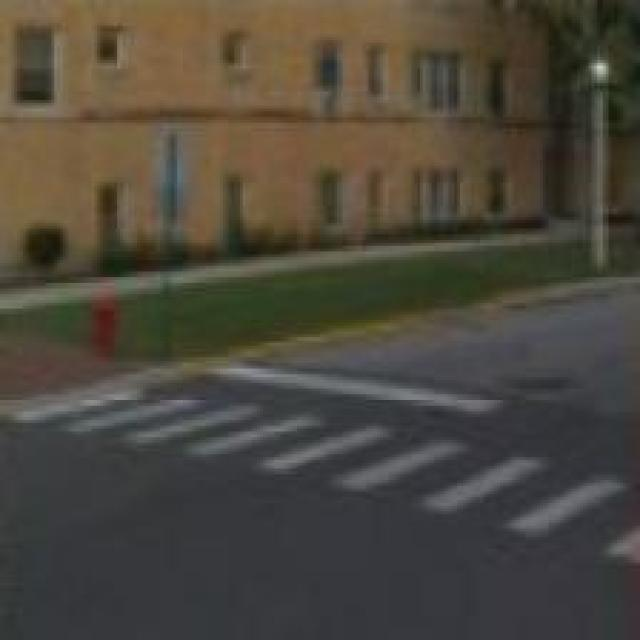zebra: (1, 377, 640, 569)
